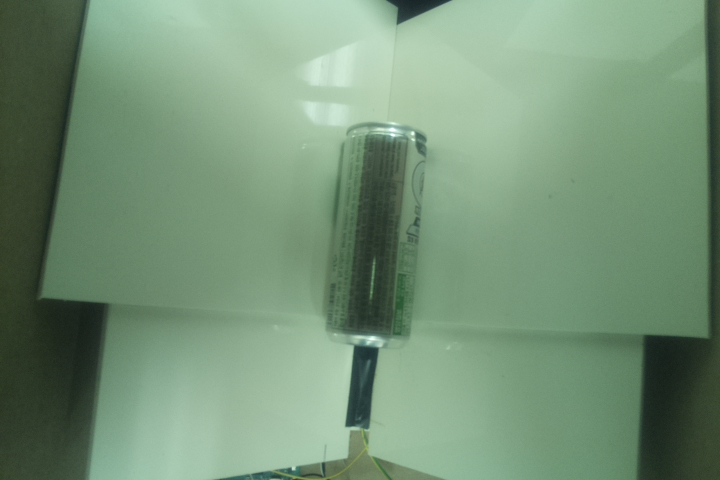can: (319, 120, 426, 351)
